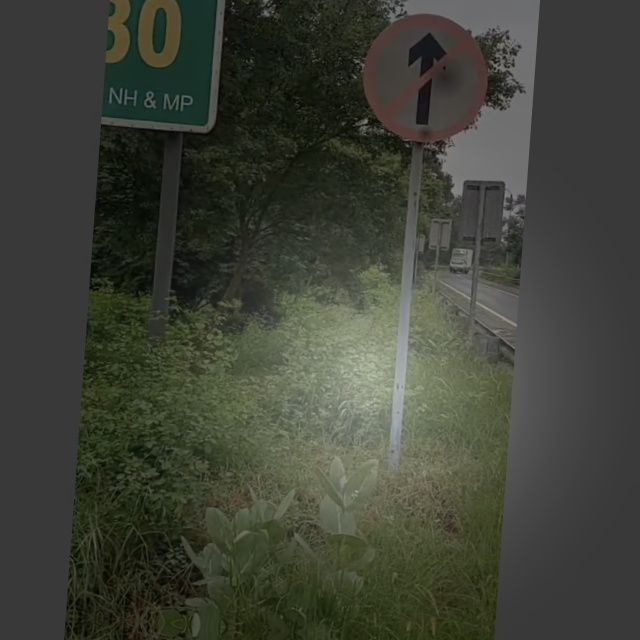No_Entry: (356, 13, 492, 147)
